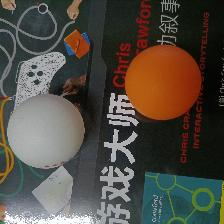WhiteBall: (7, 94, 85, 168)
YellowBall: (125, 45, 201, 120)
